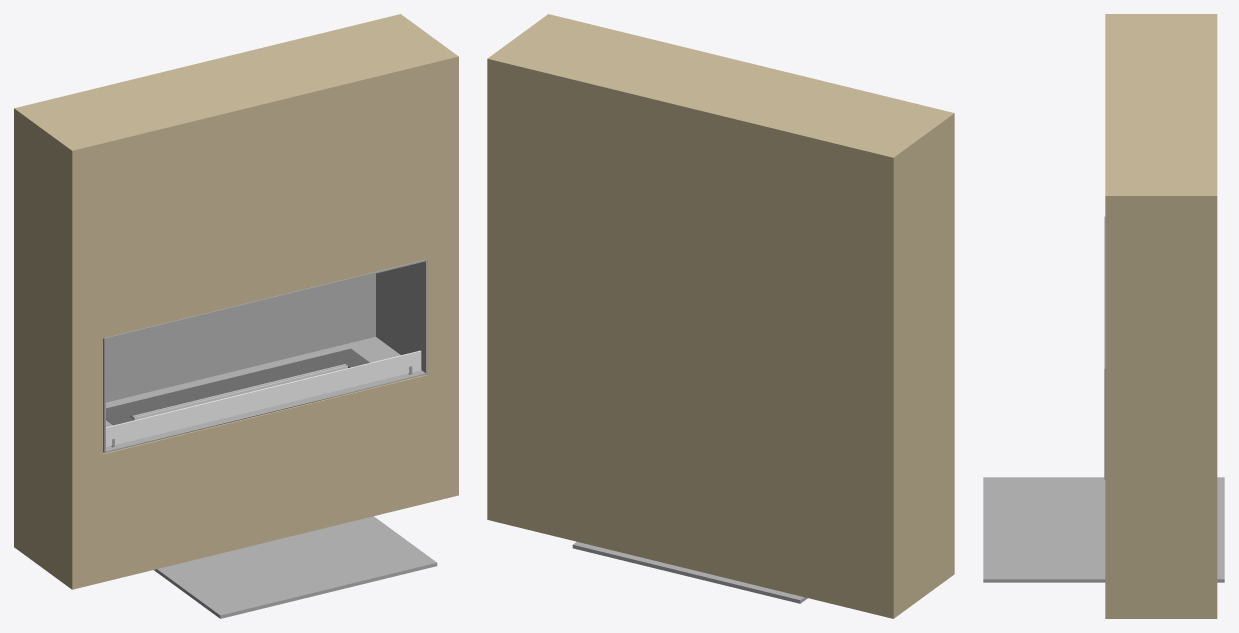
Rendered from Foco_inbuilt_AR_test6.gltf.
3 renders of one model, left to right at view 1: azimuth 30°, elevation 25°; view 2: azimuth 150°, elevation 25°; view 3: azimuth 270°, elevation 25°, orthographic. The views are drawn at different scales.
Parts seen in each view (by area): view 1: Node #104, Node #53, Node #105, Node #81, Node #99, Node #101; view 2: Node #104, Node #105; view 3: Node #104, Node #105, Node #53.
Part boxes in pixels (<box>): Node #104: <box>14,14,458,589</box>; Node #53: <box>103,259,427,453</box>; Node #105: <box>154,516,437,618</box>; Node #81: <box>106,350,421,447</box>; Node #99: <box>106,348,369,425</box>; Node #101: <box>132,364,347,420</box>; Node #104: <box>487,14,954,618</box>; Node #105: <box>572,542,807,603</box>; Node #104: <box>1105,14,1217,618</box>; Node #105: <box>983,477,1224,582</box>; Node #53: <box>1104,216,1105,479</box>.
Bounding box in the file's own units: 1.78 × 1.95 × 1.
